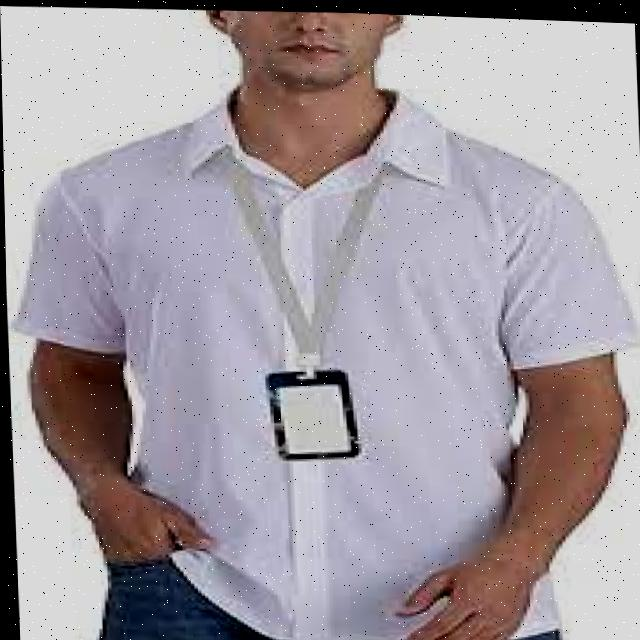id_card: (208, 103, 379, 465)
